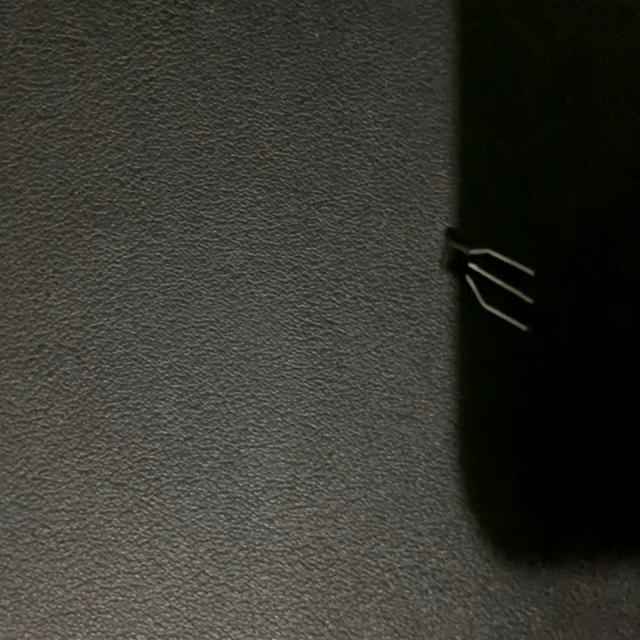BJT: (436, 218, 540, 337)
